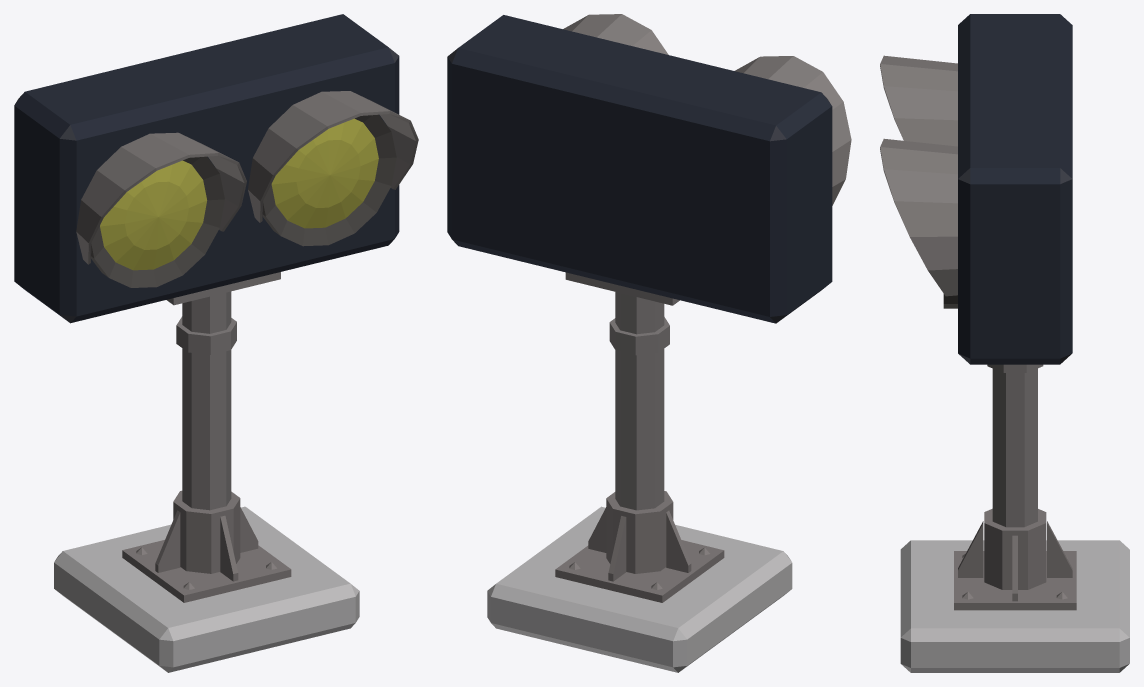
File: runway-guard-light-5a6541.glb
3 views of the same model, side by side, from view 1: azimuth 30°, elevation 25°; view 2: azimuth 150°, elevation 25°; view 3: azimuth 270°, elevation 25° (orthographic).
Visible parts, largest first — view 1: runway-guard-light-body; view 2: runway-guard-light-body; view 3: runway-guard-light-body.
Boxes of the visible parts, bbox=[...] form: runway-guard-light-body: bbox=[14, 14, 418, 672]; runway-guard-light-body: bbox=[447, 14, 851, 672]; runway-guard-light-body: bbox=[880, 14, 1129, 672].
Size of the model in its own units: 0.95 by 1.45 by 0.61.
